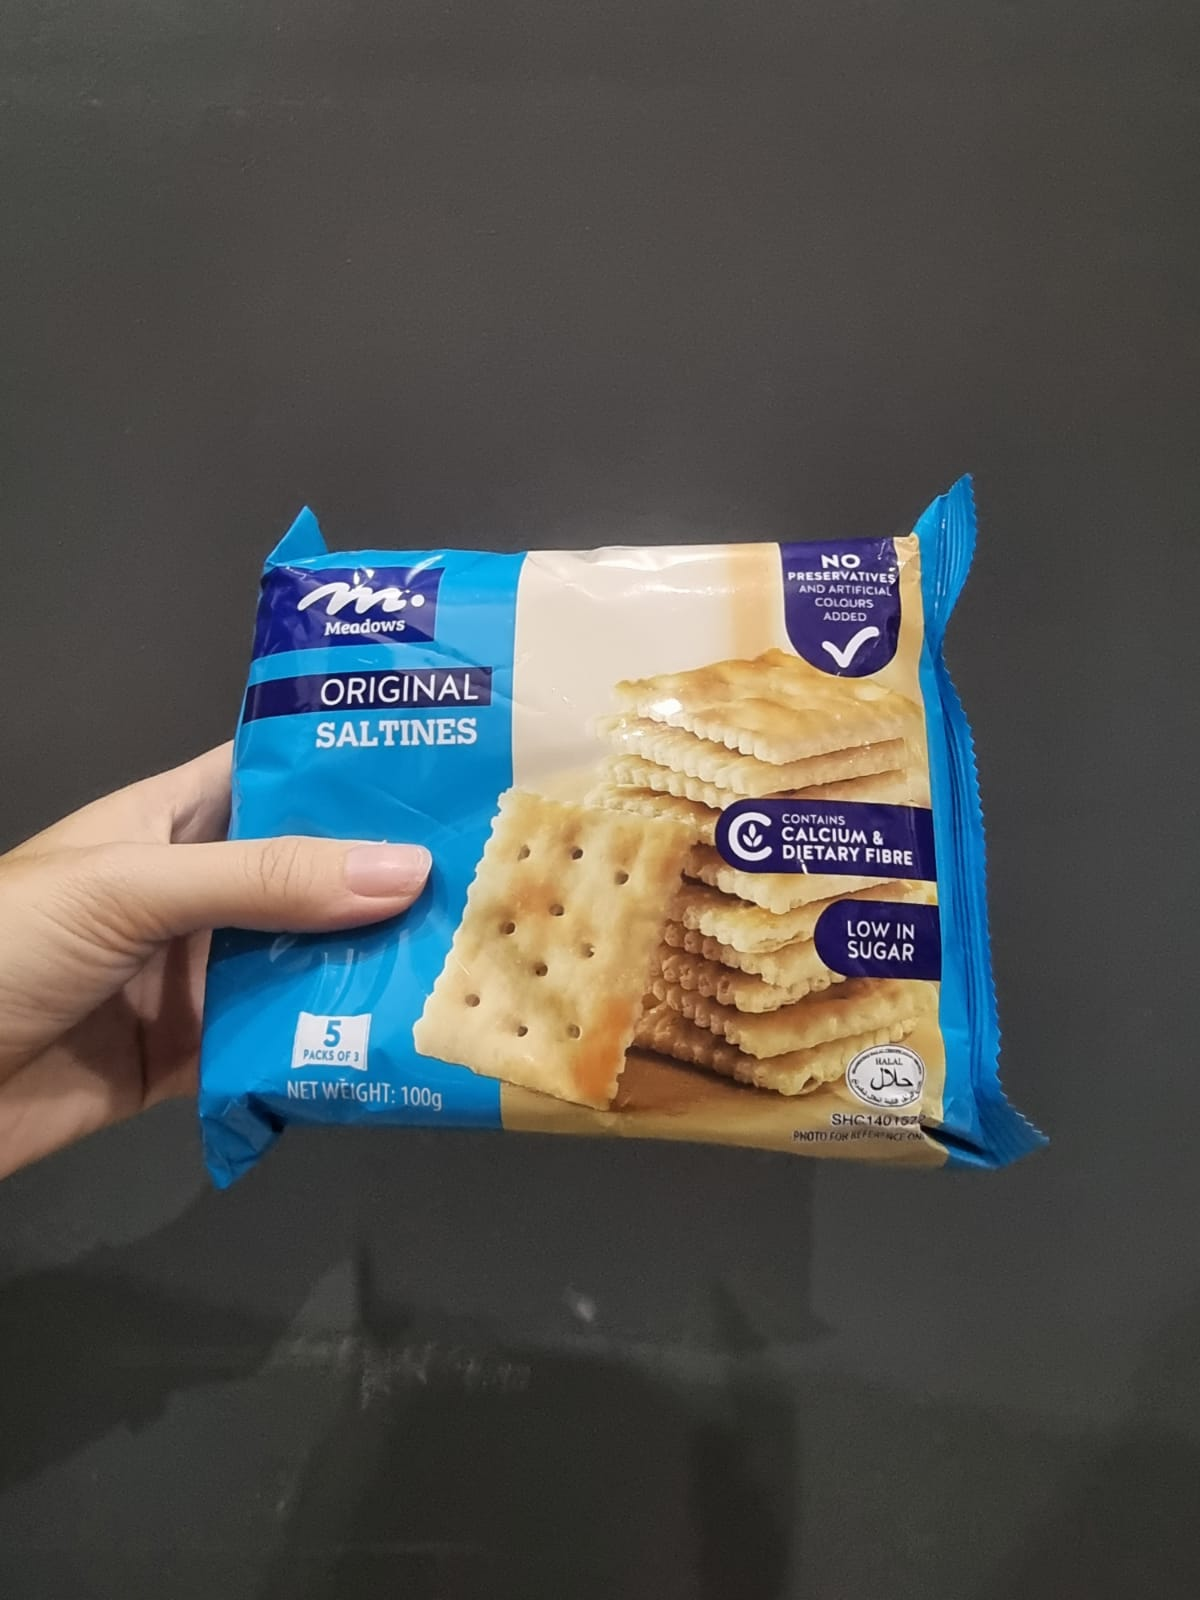Halal: (846, 1043, 926, 1112)
